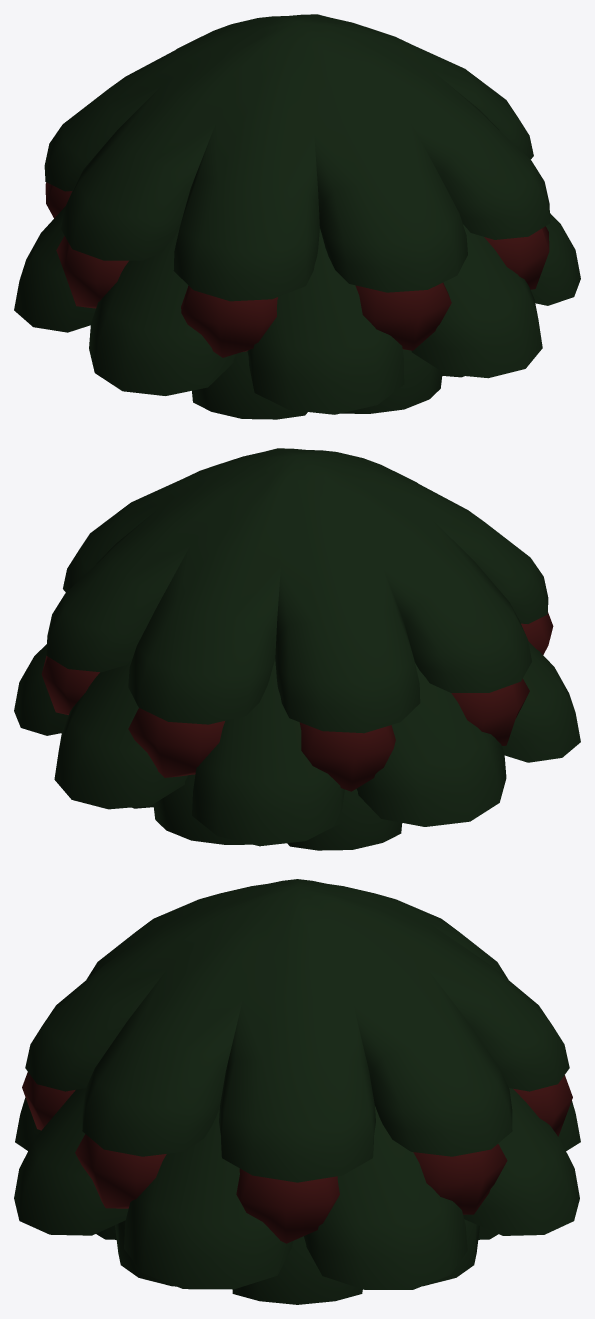
The model's file is Bush_Fruit.obj.
3 renders of one model, top to bottom at view 1: azimuth 30°, elevation 25°; view 2: azimuth 150°, elevation 25°; view 3: azimuth 270°, elevation 25°, orthographic. The views are drawn at different scales.
Parts seen in each view (by area): view 1: Bush_Fruit_Cube.074; view 2: Bush_Fruit_Cube.074; view 3: Bush_Fruit_Cube.074.
Boxes of the visible parts, x1=… form: Bush_Fruit_Cube.074: x1=14, y1=14, x2=580, y2=419; Bush_Fruit_Cube.074: x1=14, y1=448, x2=580, y2=850; Bush_Fruit_Cube.074: x1=14, y1=879, x2=580, y2=1304.
Size of the model in its own units: 3.52 by 2.23 by 3.53.
